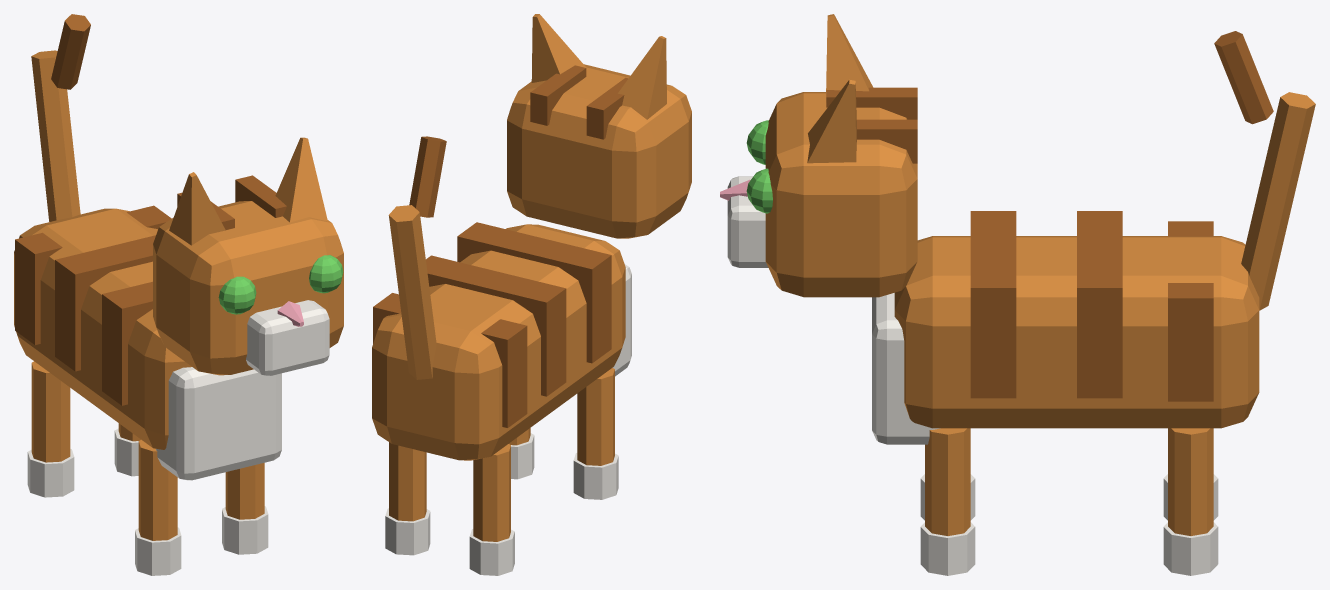
The model's file is cat.glb.
3 views of the same model, side by side, from view 1: azimuth 30°, elevation 25°; view 2: azimuth 150°, elevation 25°; view 3: azimuth 270°, elevation 25° (orthographic). The views are drawn at different scales.
Visible parts, largest first — view 1: Cat, Tail, LegBL, LegFL, LegFR, EarR, EarL, LegBR; view 2: Cat, Tail, LegBL, LegFL, LegBR, EarL, EarR, LegFR; view 3: Cat, Tail, LegBR, LegFR, EarR, EarL.
Part boxes in pixels (x1,y1,x2,y2): Cat: (14, 175, 343, 480); Tail: (31, 14, 90, 221); LegBL: (27, 361, 74, 497); LegFL: (135, 439, 181, 575); LegFR: (222, 463, 268, 554); EarR: (275, 137, 327, 222); EarL: (169, 172, 225, 245); LegBR: (114, 423, 140, 476); Cat: (372, 64, 691, 460); Tail: (388, 136, 446, 379); LegBL: (469, 444, 514, 575); LegFL: (573, 368, 618, 499); LegBR: (385, 442, 430, 555); EarL: (618, 36, 666, 119); EarR: (531, 14, 587, 82); LegFR: (509, 428, 534, 479); Cat: (720, 87, 1259, 444); Tail: (1214, 31, 1315, 310); LegBR: (1163, 428, 1218, 575); LegFR: (920, 428, 975, 575); EarR: (807, 79, 856, 163); EarL: (826, 14, 873, 102).
Size of the model in its own units: 0.26 by 0.7357 by 0.7847.
